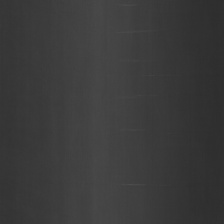waist_folding: (111, 24, 170, 197)
